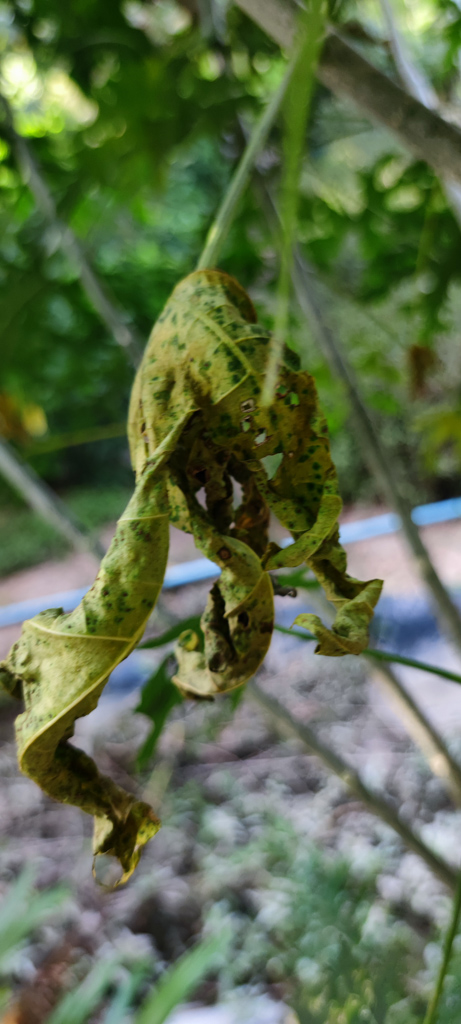Alternaria brassicicola: (154, 284, 348, 581)
